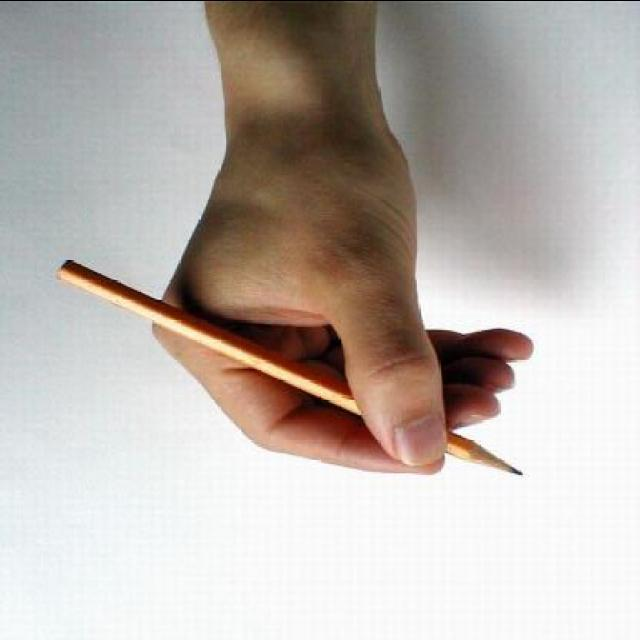Pencil: (454, 432, 532, 474)
